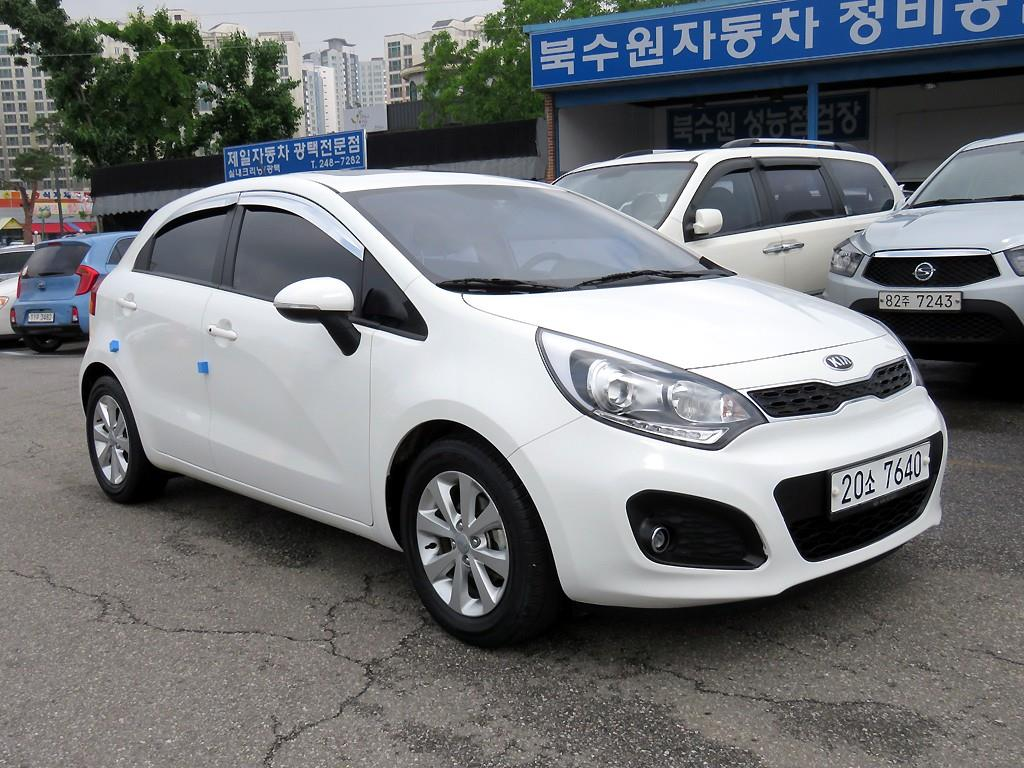plate: (831, 442, 930, 511)
